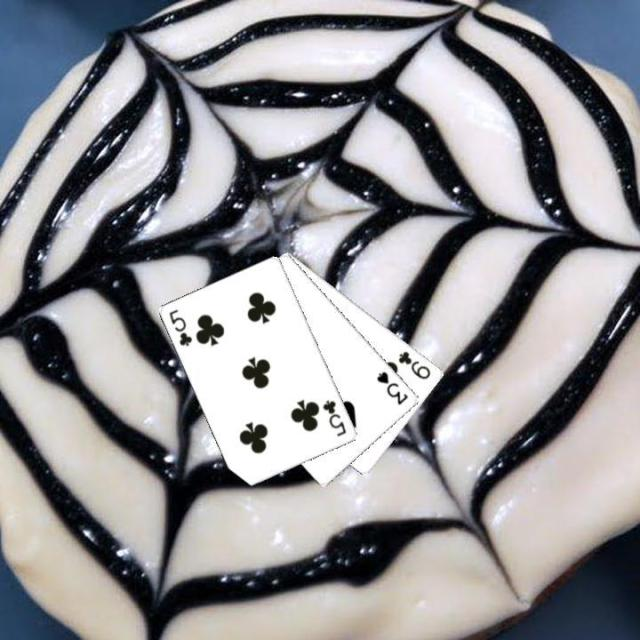3S: (372, 367, 410, 406)
5C: (319, 396, 349, 438), (165, 306, 195, 348)
9C: (395, 347, 433, 381)
